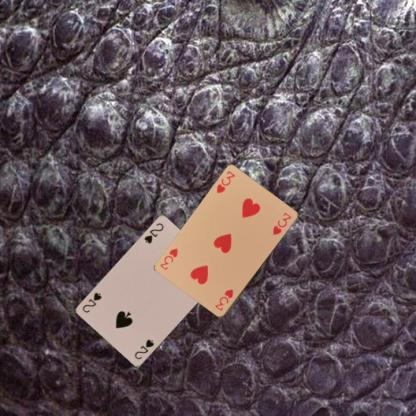2s: (132, 337, 155, 361), (142, 221, 165, 245)
3h: (212, 286, 235, 312), (214, 168, 236, 194)
